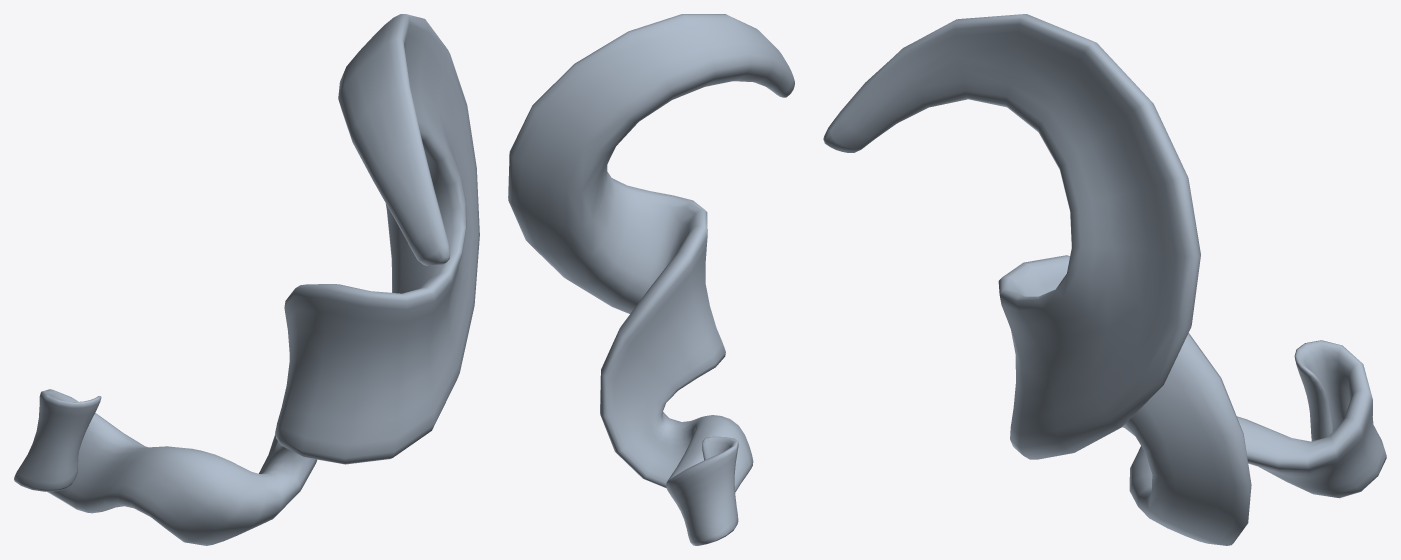
Rendered from Tail_19.fbx.
The picture shows the model from 3 angles, left to right: view 1: azimuth 30°, elevation 25°; view 2: azimuth 150°, elevation 25°; view 3: azimuth 270°, elevation 25°; orthographic projection. The views are drawn at different scales.
Parts seen in each view (by area): view 1: Tail_19; view 2: Tail_19; view 3: Tail_19.
Part boxes in pixels (bbox=[...]): Tail_19: bbox=[14, 14, 479, 545]; Tail_19: bbox=[508, 14, 794, 545]; Tail_19: bbox=[823, 14, 1386, 545].
Size of the model in its own units: 1.99 by 2.74 by 2.45.
